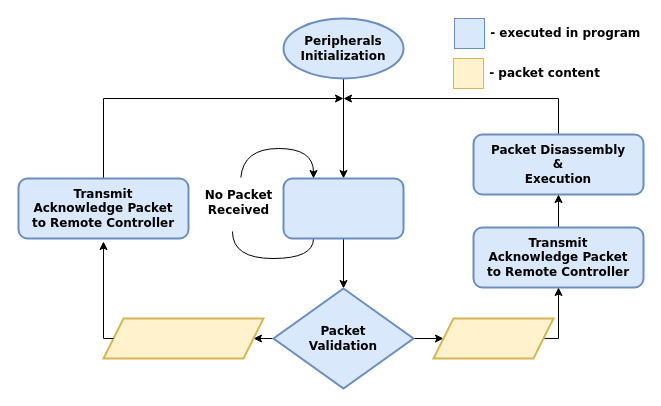
This 661x406 diagram has some shape labels left out. Each missing label, with the centre of its shape:
"Corrupted Packet" belongs at pixel 183 338.
"Switch nRF to Receive Mode" belongs at pixel 343 208.
"Valid Packet" belongs at pixel 493 338.
